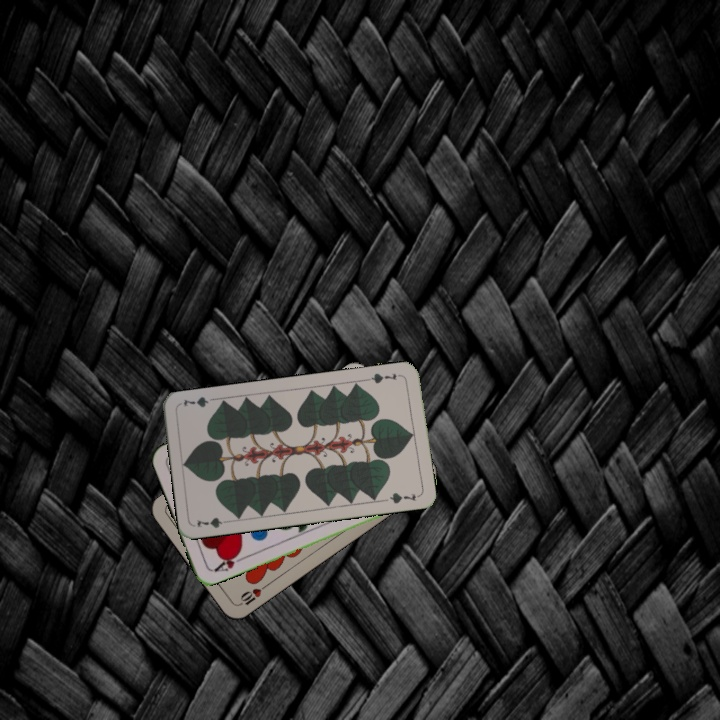G7: (193, 513, 233, 531), (364, 369, 404, 386)
H10: (233, 581, 270, 609)
HA: (209, 548, 248, 575)
